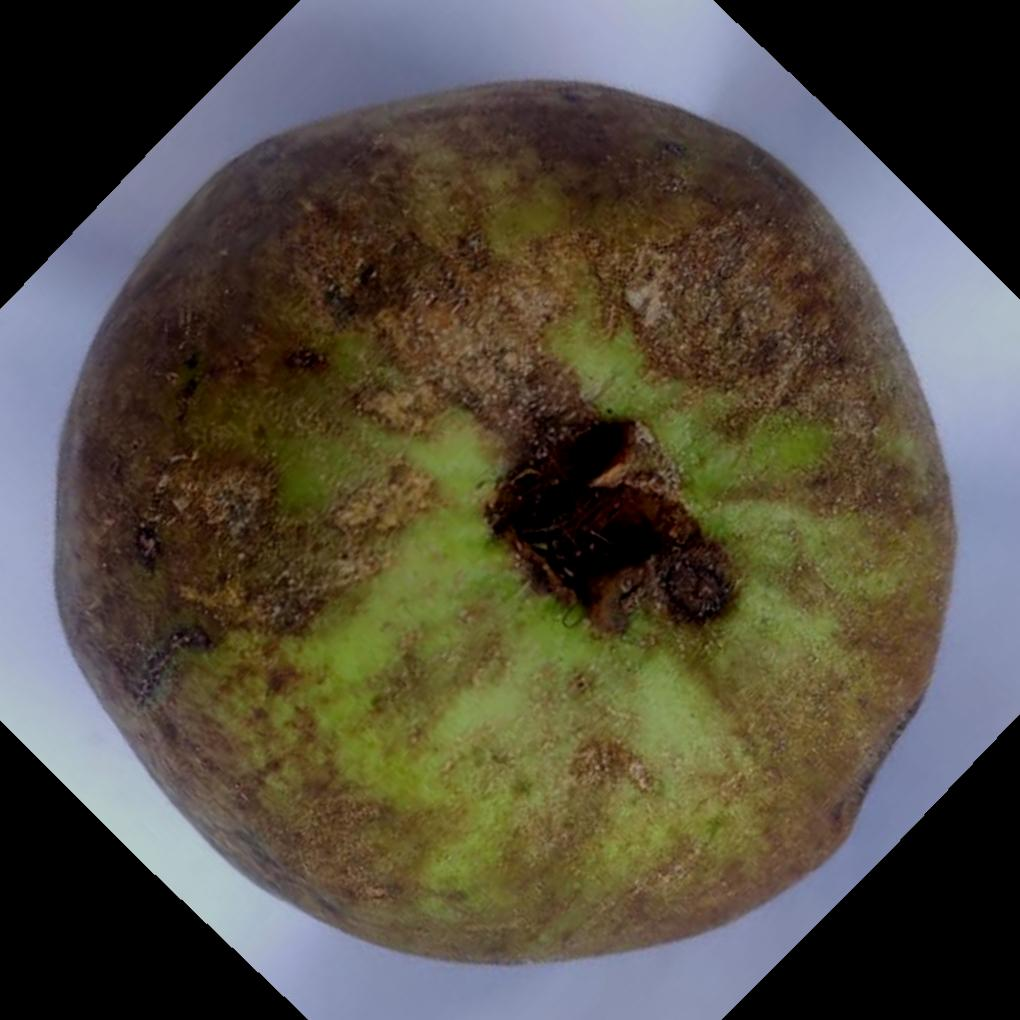FreshOrange: (50, 74, 958, 965)
